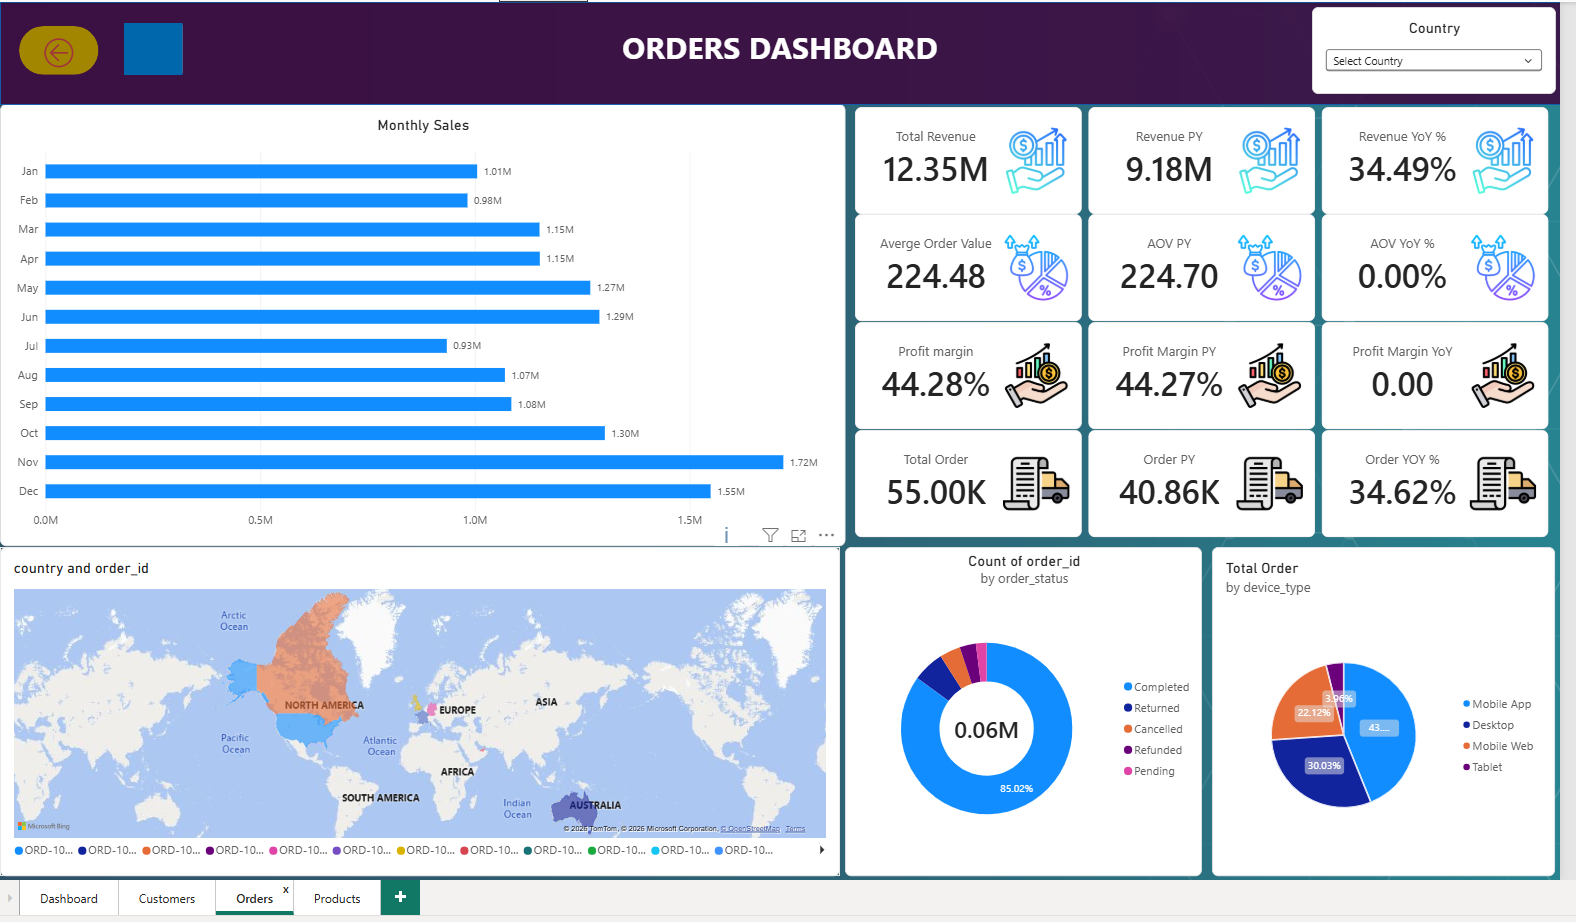

The dashboard page shown, as its layout file describes it:
{"tool":"powerbi","page":{"name":"Orders","canvas":[1920,1080],"ordinal":2},"visuals":[{"type":"barChart","title":"Monthly Sales","fields":{"Category":["Calender.Month"],"Y":["Sum(Orders.Sales Amount)"]},"box":[0,125.9,1039.7,544],"z":0},{"type":"shape","box":[0,0,1920,126.5],"z":1000},{"type":"listSlicer","fields":{"Values":["Customers.country"]},"box":[1613.5,6.5,300,107],"z":2000},{"type":"actionButton","box":[23.5,30,97.8,60],"z":3000},{"type":"textbox","box":[710.9,30,497,80.9],"z":4000},{"type":"donutChart","fields":{"Category":["Orders.order_status"],"Y":["CountNonNull(Orders.order_id)"]},"box":[1039.7,669.9,439.5,404.6],"z":5000},{"type":"actionButton","box":[152.7,25.5,72.4,64.3],"z":6000},{"type":"cardVisual","fields":{"Data":["Orders.Total Revenue","Orders.Revenue PY","Orders.Revenue YoY %"]},"box":[1051.8,128.6,854.8,132.6],"z":7000},{"type":"cardVisual","fields":{"Data":["Orders.Averge Order Value","Orders.AOV PY","Orders.AOV YoY %"]},"box":[1051.8,261.3,854.8,132.6],"z":8000},{"type":"cardVisual","fields":{"Data":["Orders.Profit margin","Orders.Profit Margin PY","Orders.Profit Margin YoY"]},"box":[1051.8,393.9,854.8,132.6],"z":9000},{"type":"cardVisual","fields":{"Data":["Orders.Total Order","Orders.Order PY","Orders.Order YOY %"]},"box":[1051.8,526.6,854.8,132.6],"z":10000},{"type":"pieChart","fields":{"Category":["Orders.device_type"],"Y":["Orders.Total Order"]},"box":[1491.2,669.9,422.1,404.6],"z":11000},{"type":"filledMap","fields":{"Category":["Customers.country"],"Series":["Orders.order_id"]},"box":[0,669.9,1033,404.6],"z":11001}]}

Visuals, with their boxes in screenshot pixels (x1, y1, x2, y2):
"Monthly Sales" barChart: 4:102:846:542
shape: 4:0:1558:102
listSlicer - Customers.country: 1310:5:1553:92
actionButton: 23:24:102:73
textbox: 580:24:982:90
donutChart - Orders.order_status x CountNonNull(Orders.order_id): 846:542:1201:870
actionButton: 128:21:186:73
cardVisual - Orders.Total Revenue x Orders.Revenue PY: 856:104:1547:211
cardVisual - Orders.Averge Order Value x Orders.AOV PY: 856:212:1547:319
cardVisual - Orders.Profit margin x Orders.Profit Margin PY: 856:319:1547:426
cardVisual - Orders.Total Order x Orders.Order PY: 856:426:1547:534
pieChart - Orders.device_type x Orders.Total Order: 1211:542:1553:870
filledMap - Customers.country x Orders.order_id: 4:542:840:870
